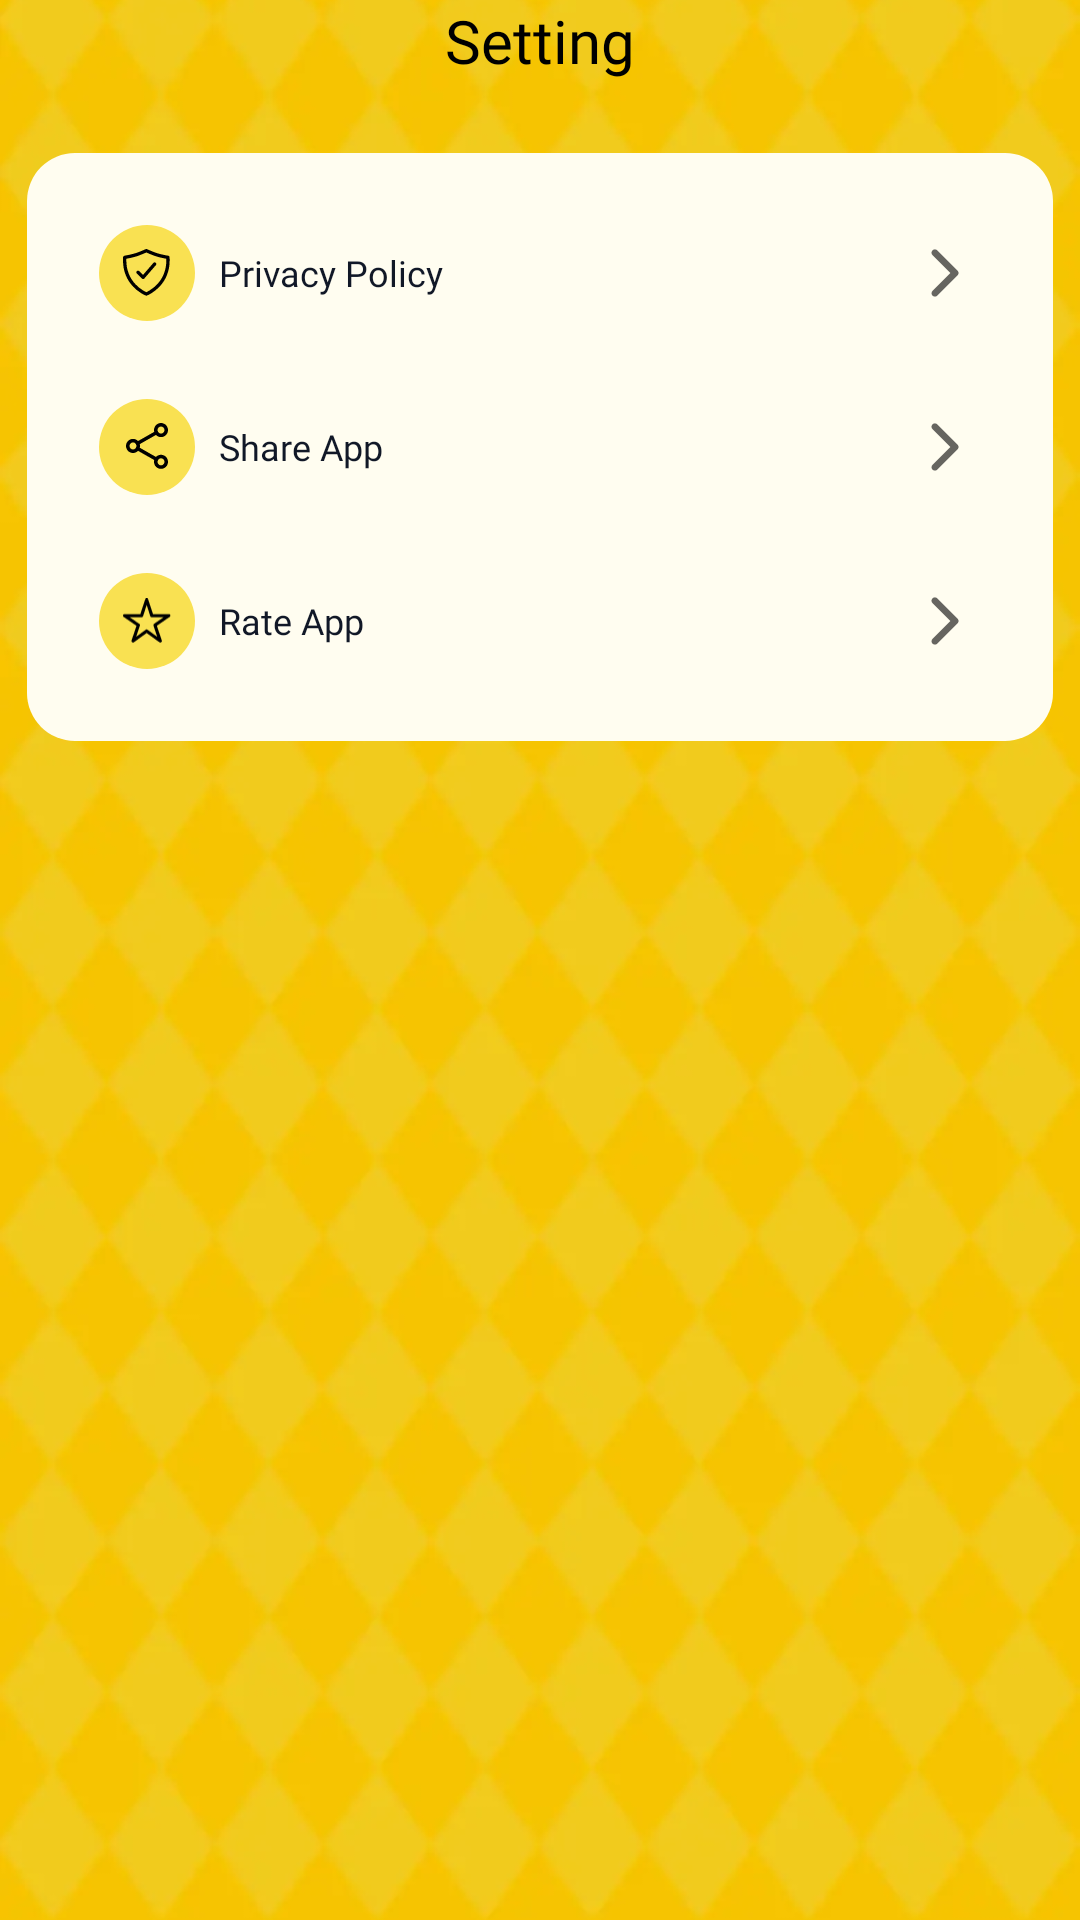

Where icons sit on this 1080px x 1920px app screen, as (x1, y1, x2, y2):
arrow right: (931, 249, 959, 297), (931, 423, 959, 471), (931, 597, 959, 645)
setting privacy: (123, 249, 170, 296)
setting rate: (123, 598, 171, 643)
setting share: (126, 423, 168, 469)
